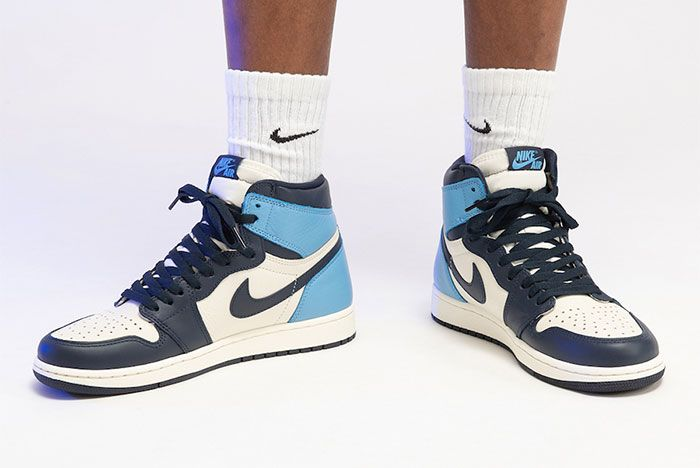Jordan 1: (26, 148, 363, 399), (426, 141, 671, 398)
